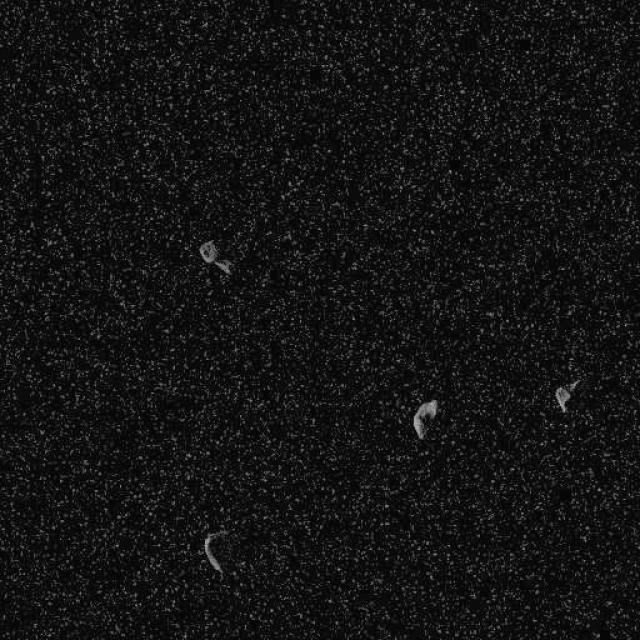D2: (198, 239, 232, 275), (202, 528, 226, 578), (412, 399, 438, 440), (554, 377, 580, 412)
